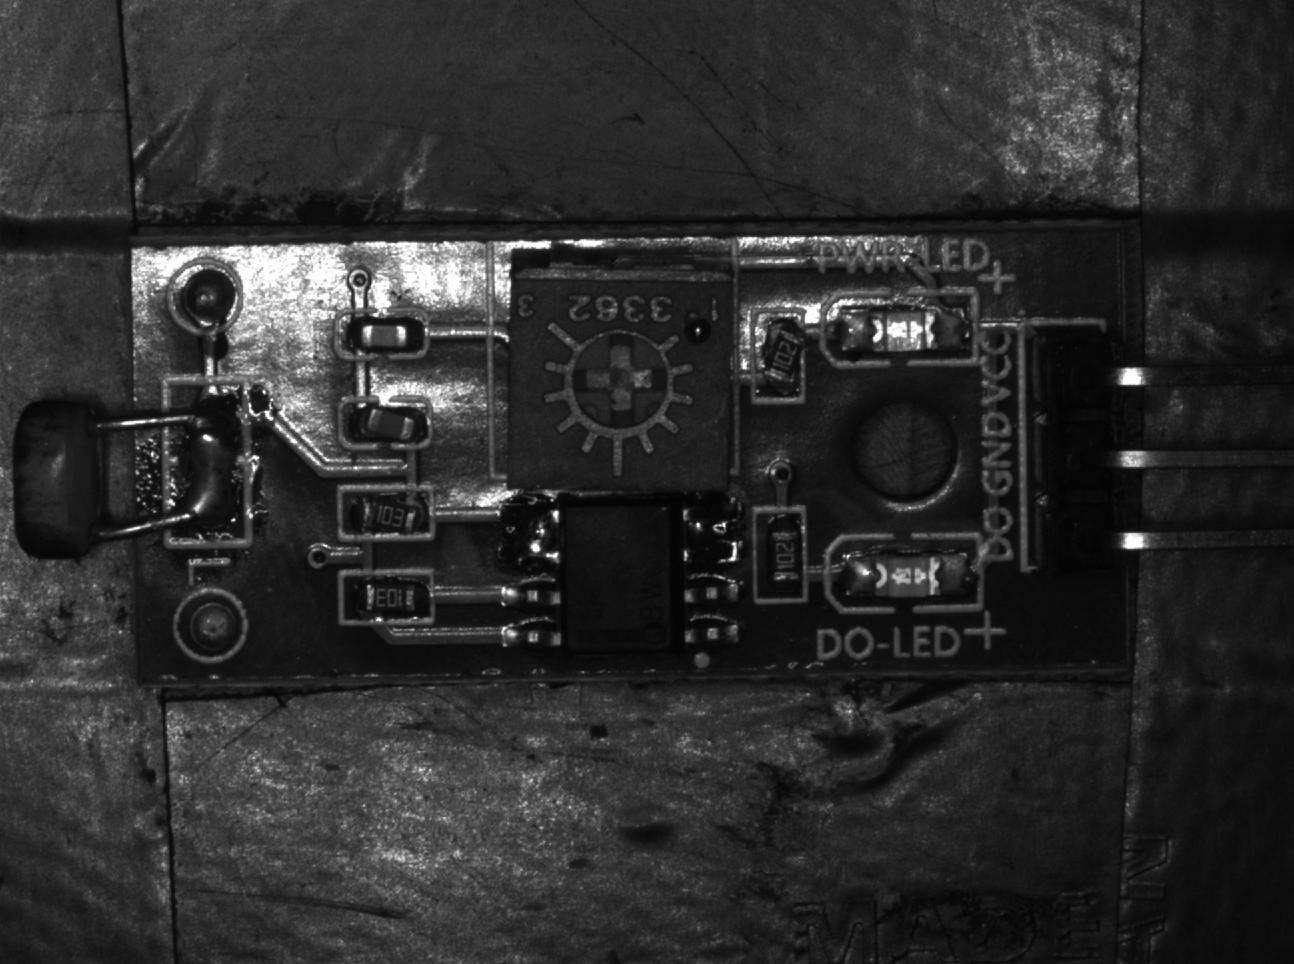bridge: (164, 375, 253, 545), (499, 491, 558, 580), (681, 491, 741, 571)
lifted: (338, 488, 436, 541), (334, 395, 431, 447), (752, 310, 803, 398)
ok: (339, 571, 433, 623), (334, 310, 429, 360), (757, 509, 803, 596)
